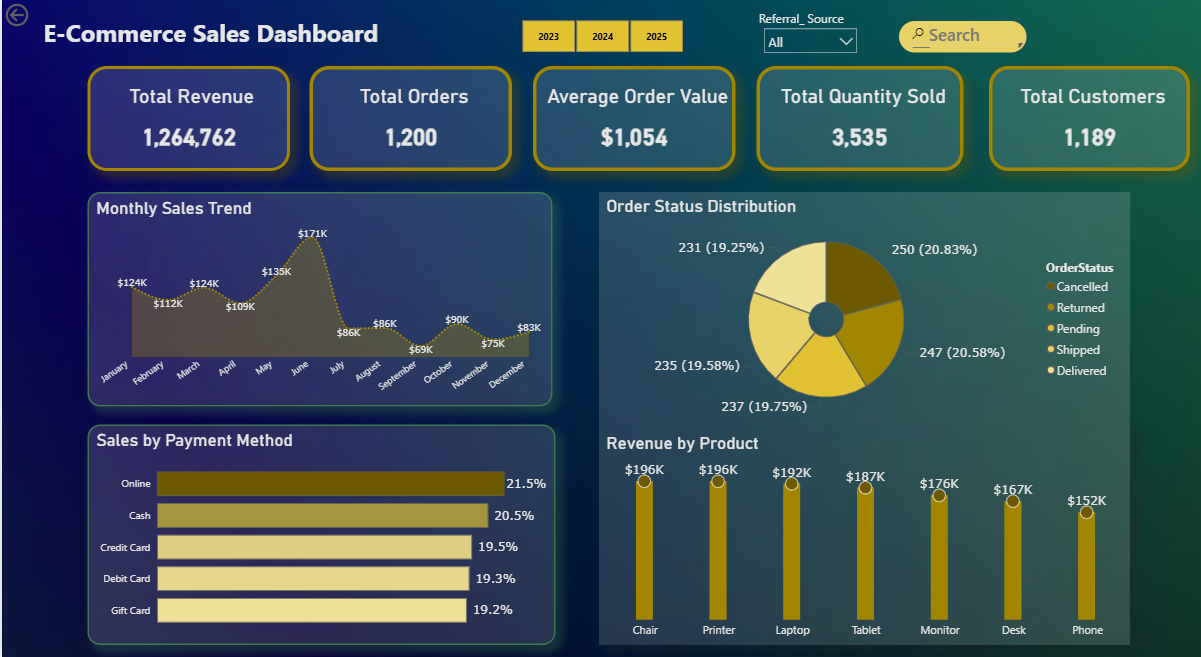

The dashboard page shown, as its layout file describes it:
{"tool":"powerbi","page":{"name":"Page 1","canvas":[1600,878],"ordinal":0},"visuals":[{"type":"barChart","title":"Sales by Payment Method","fields":{"Category":["Cleaned_Dataset.PaymentMethod"],"Y":["Cleaned_Dataset.Payment %"]},"box":[114,566,624,294],"z":0},{"type":"lineChart","title":"Monthly Sales Trend","fields":{"Category":["Cleaned_Dataset.Date.Variation.Date Hierarchy.Month"],"Y":["Sum(Cleaned_Dataset.TotalPrice)"]},"box":[114,256,620,286],"z":1000},{"type":"columnChart","title":"Revenue by Product","fields":{"Category":["Cleaned_Dataset.Product"],"Y":["Sum(Cleaned_Dataset.TotalPrice)"]},"box":[796,566,708,294],"z":2000},{"type":"donutChart","title":" Order Status Distribution","fields":{"Category":["Cleaned_Dataset.OrderStatus"],"Y":["CountNonNull(Cleaned_Dataset.OrderID)"]},"box":[796,256,708,310],"z":3000},{"type":"card","title":"Total Revenue","fields":{"Values":["Cleaned_Dataset.Total Revenue"]},"box":[114,88,270,140],"z":4000},{"type":"card","title":"Total Orders","fields":{"Values":["Cleaned_Dataset.Total Orders"]},"box":[410,88,270,140],"z":5000},{"type":"card","title":"Average Order Value","fields":{"Values":["Cleaned_Dataset.Average Order Value"]},"box":[708,88,270,140],"z":6000},{"type":"card","title":"Total Quantity Sold","fields":{"Values":["Cleaned_Dataset.Total Quantity Sold"]},"box":[1006,88,276,140],"z":7000},{"type":"card","title":"Total Customers","fields":{"Values":["Cleaned_Dataset.Total Customers"]},"box":[1316,88,268,140],"z":8000},{"type":"slicer","fields":{"Values":["Cleaned_Dataset.Date.Variation.Date Hierarchy.Year"]},"box":[668,20,264,56],"z":9000},{"type":"actionButton","box":[0,0,100,40],"z":10000},{"type":"slicer","fields":{"Values":["Cleaned_Dataset.ReferralSource"]},"box":[1006,28,144,60],"z":11000},{"type":"textbox","box":[1004,8,172,40],"z":12000},{"type":"textbox","box":[50,16,468,68],"z":13000},{"type":"slicer","fields":{"Values":["Cleaned_Dataset.OrderID"]},"box":[1196,28,170,42],"z":14000}]}

Visuals, with their boxes in screenshot pixels (x1, y1, x2, y2), scaled from the page's 1600x878 canvas onto the 1201x657 screenshot:
"Sales by Payment Method" barChart: (left=86, top=424, right=554, bottom=644)
"Monthly Sales Trend" lineChart: (left=86, top=192, right=551, bottom=406)
"Revenue by Product" columnChart: (left=597, top=424, right=1129, bottom=644)
" Order Status Distribution" donutChart: (left=597, top=192, right=1129, bottom=424)
"Total Revenue" card: (left=86, top=66, right=288, bottom=171)
"Total Orders" card: (left=308, top=66, right=510, bottom=171)
"Average Order Value" card: (left=531, top=66, right=734, bottom=171)
"Total Quantity Sold" card: (left=755, top=66, right=962, bottom=171)
"Total Customers" card: (left=988, top=66, right=1189, bottom=171)
slicer - Cleaned_Dataset.Date.Variation.Date Hierarchy.Year: (left=501, top=15, right=700, bottom=57)
actionButton: (left=0, top=0, right=75, bottom=30)
slicer - Cleaned_Dataset.ReferralSource: (left=755, top=21, right=863, bottom=66)
textbox: (left=754, top=6, right=883, bottom=36)
textbox: (left=38, top=12, right=389, bottom=63)
slicer - Cleaned_Dataset.OrderID: (left=898, top=21, right=1025, bottom=52)
